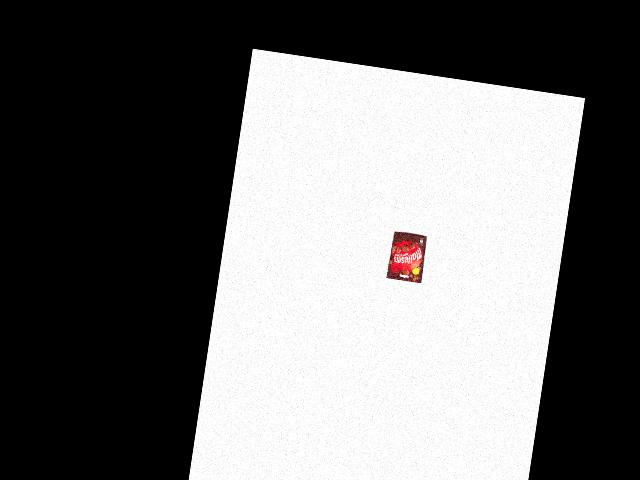chocolate: (385, 229, 428, 284)
